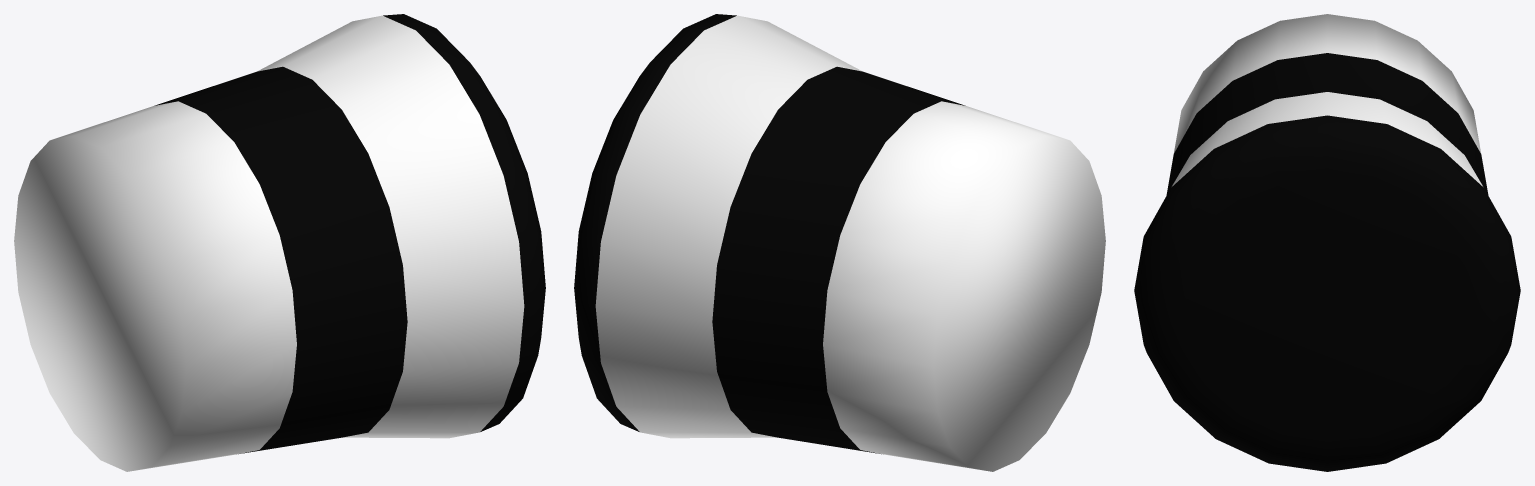
Rendered from KolGenisletme.fbx.
3 renders of one model, left to right at view 1: azimuth 30°, elevation 25°; view 2: azimuth 150°, elevation 25°; view 3: azimuth 270°, elevation 25°, orthographic. The views are drawn at different scales.
Parts seen in each view (by area): view 1: Cylinder; view 2: Cylinder; view 3: Cylinder.
Boxes of the visible parts, x1,y1,x2,y2 form: Cylinder: (14, 14, 545, 471); Cylinder: (574, 14, 1105, 471); Cylinder: (1134, 14, 1520, 471).
Size of the model in its own units: 0.0975 by 0.103 by 0.103.
